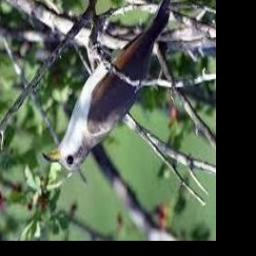Cuckoo: (42, 0, 193, 171)
